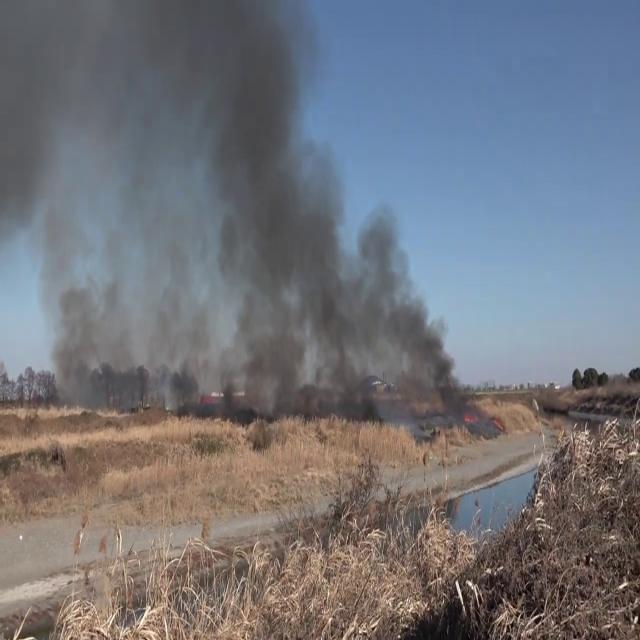Smoke: (0, 0, 474, 414)
